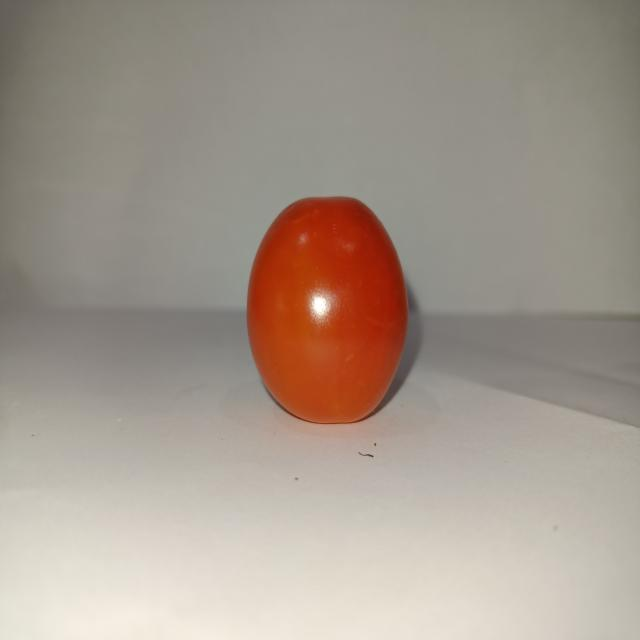Red: (245, 194, 410, 424)
